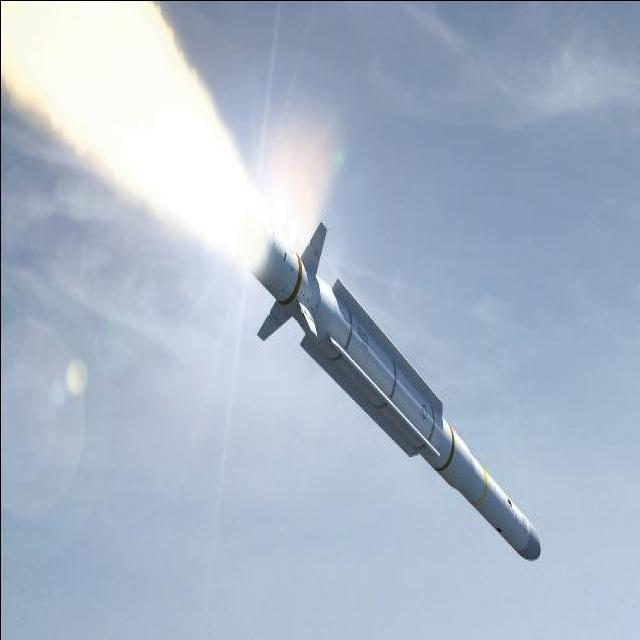missile: (234, 216, 550, 580)
